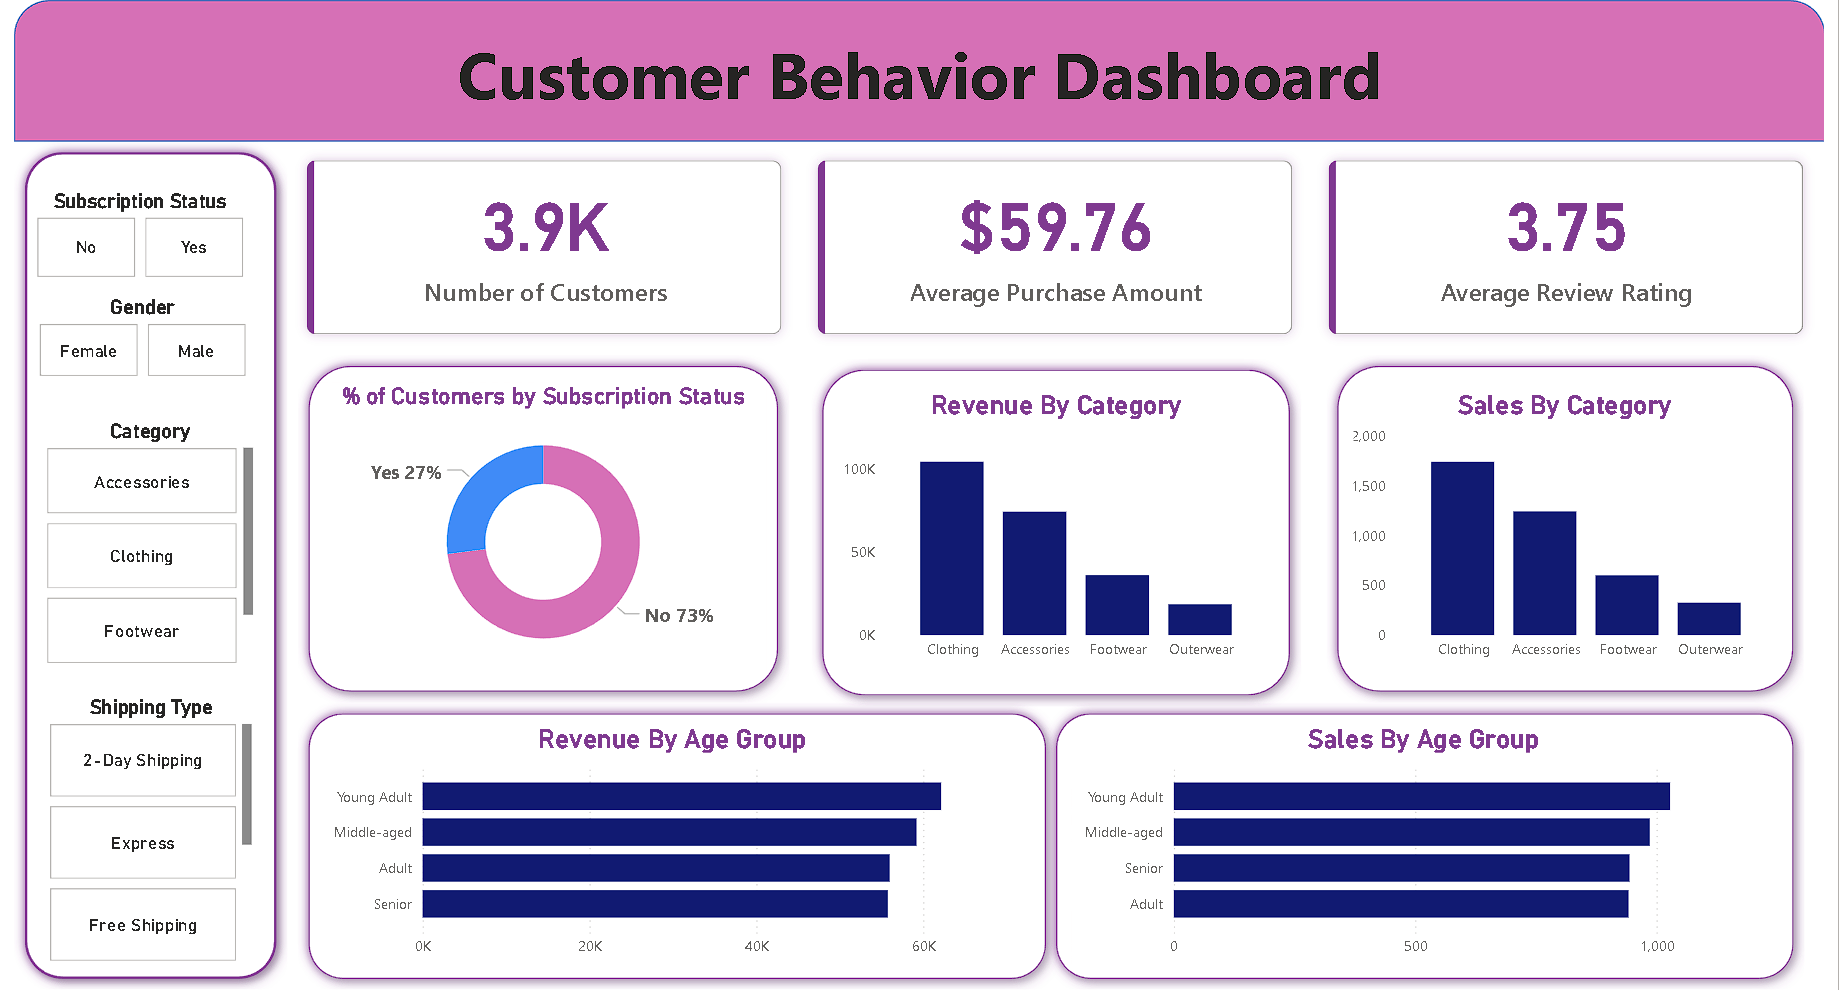

This screenshot's page, from the dashboard's own definition file:
{"tool":"powerbi","page":{"name":"Page 1","canvas":[1500,820],"ordinal":0},"visuals":[{"type":"cardVisual","fields":{"Data":["cust_db customer.Number of Customers","cust_db customer.Average Purchase Amount","cust_db customer.Average Review Rating"]},"box":[226.7,117.4,1273.6,176.9],"z":0},{"type":"shape","box":[0,0,1500.3,117.4],"z":1000},{"type":"textbox","box":[0,19.3,1500.3,98.1],"z":2000},{"type":"shape","box":[234.8,294.3,406.8,287.8],"z":3000},{"type":"donutChart","title":"% of Customers by Subscription Status","fields":{"Category":["cust_db customer.subscription_status"],"Y":["CountNonNull(cust_db customer.customer_id)"]},"box":[254.1,316.8,369.9,242.8],"z":4000},{"type":"shape","box":[660.9,297.5,405.2,287.8],"z":5000},{"type":"clusteredColumnChart","title":"Revenue By Category","fields":{"Y":["Sum(cust_db customer.purchase_amount)"],"Category":["cust_db customer.category"]},"box":[683.4,323.2,360.2,233.2],"z":6000},{"type":"shape","box":[1087.1,294.3,395.6,287.8],"z":7000},{"type":"clusteredColumnChart","title":"Sales By Category","fields":{"Category":["cust_db customer.category"],"Y":["CountNonNull(cust_db customer.customer_id)"]},"box":[1104.7,323.2,360.2,233.2],"z":8000},{"type":"shape","box":[0,130.3,212.3,678.6],"z":9000},{"type":"advancedSlicerVisual","fields":{"Values":["cust_db customer.subscription_status"]},"box":[14.5,156,180.1,78.8],"z":10000},{"type":"advancedSlicerVisual","fields":{"Values":["cust_db customer.gender"]},"box":[16.1,244.4,180.1,72.4],"z":11000},{"type":"advancedSlicerVisual","fields":{"Values":["cust_db customer.category"]},"box":[14.5,323.2,180.1,209],"z":12000},{"type":"advancedSlicerVisual","fields":{"Values":["cust_db customer.shipping_type"]},"box":[16.1,532.3,178.5,254.1],"z":13000},{"type":"shape","box":[234.8,582.1,628.8,238],"z":14000},{"type":"clusteredBarChart","title":"Revenue By Age Group","fields":{"Y":["Sum(cust_db customer.purchase_amount)"],"Category":["cust_db customer.age_group"]},"box":[254.1,599.8,583.7,202.6],"z":15000},{"type":"shape","box":[853.9,582.1,628.8,238],"z":16000},{"type":"clusteredBarChart","title":"Sales By Age Group","fields":{"Y":["CountNonNull(cust_db customer.customer_id)"],"Category":["cust_db customer.age_group"]},"box":[876.4,599.8,583.7,202.6],"z":17000}]}

Visuals, with their boxes in screenshot pixels (x1, y1, x2, y2), scaled from the page's 1500x820 canvas onto the 1840x990 screenshot:
cardVisual - cust_db customer.Number of Customers x cust_db customer.Average Purchase Amount: <box>278,142,1839,355</box>
shape: <box>0,0,1839,142</box>
textbox: <box>0,23,1839,142</box>
shape: <box>288,355,787,703</box>
"% of Customers by Subscription Status" donutChart: <box>312,382,765,676</box>
shape: <box>811,359,1308,707</box>
"Revenue By Category" clusteredColumnChart: <box>838,390,1280,672</box>
shape: <box>1334,355,1819,703</box>
"Sales By Category" clusteredColumnChart: <box>1355,390,1797,672</box>
shape: <box>0,157,260,977</box>
advancedSlicerVisual - cust_db customer.subscription_status: <box>18,188,239,283</box>
advancedSlicerVisual - cust_db customer.gender: <box>20,295,241,382</box>
advancedSlicerVisual - cust_db customer.category: <box>18,390,239,643</box>
advancedSlicerVisual - cust_db customer.shipping_type: <box>20,643,239,949</box>
shape: <box>288,703,1059,989</box>
"Revenue By Age Group" clusteredBarChart: <box>312,724,1028,969</box>
shape: <box>1047,703,1819,989</box>
"Sales By Age Group" clusteredBarChart: <box>1075,724,1791,969</box>
